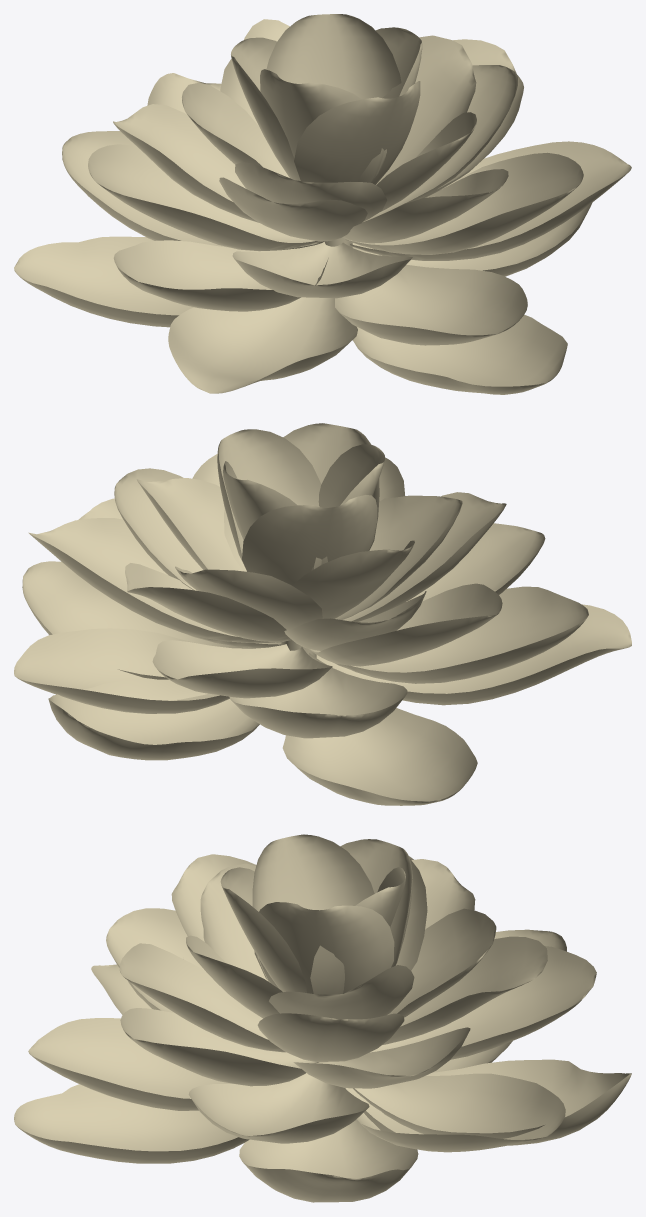
The model's file is huaduo2.FBX.
3 views of the same model, one above another, from view 1: azimuth 30°, elevation 25°; view 2: azimuth 150°, elevation 25°; view 3: azimuth 270°, elevation 25° (orthographic).
Visible parts, largest first — view 1: Obj3d66-516068-3-785; view 2: Obj3d66-516068-3-785; view 3: Obj3d66-516068-3-785.
Boxes of the visible parts, box(x1,y1,x2,y2) form: Obj3d66-516068-3-785: box(14, 14, 631, 394); Obj3d66-516068-3-785: box(14, 423, 631, 805); Obj3d66-516068-3-785: box(14, 834, 631, 1202).
Size of the model in its own units: 3.3 by 1.65 by 3.43.
